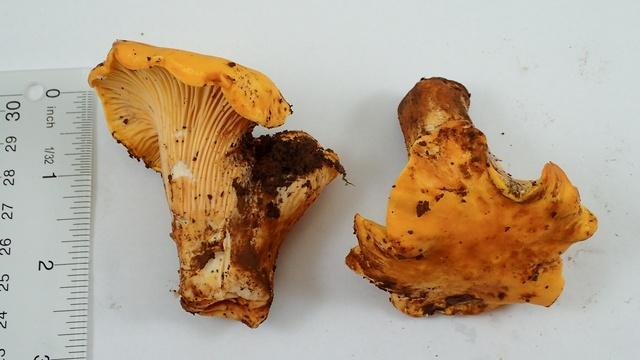Edible Mushroom: (87, 37, 347, 328), (344, 74, 598, 318)
